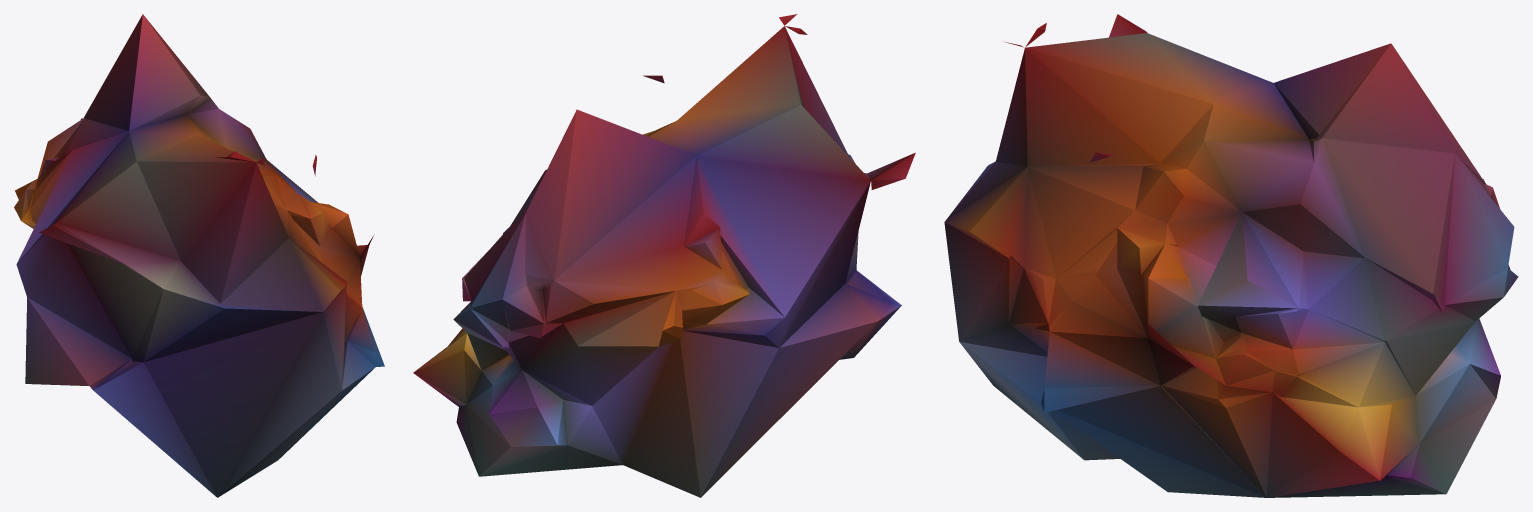
Rendered from rainbow_lo.glb.
The picture shows the model from 3 angles, left to right: view 1: azimuth 30°, elevation 25°; view 2: azimuth 150°, elevation 25°; view 3: azimuth 270°, elevation 25°; orthographic projection. The views are drawn at different scales.
Parts seen in each view (by area): view 1: rainbow; view 2: rainbow; view 3: rainbow.
Boxes of the visible parts, x1,y1,x2,y2 form: rainbow: (14, 14, 384, 497); rainbow: (413, 14, 915, 497); rainbow: (944, 14, 1518, 497).
Bounding box in the file's own units: 1.51 × 1.37 × 1.73.
